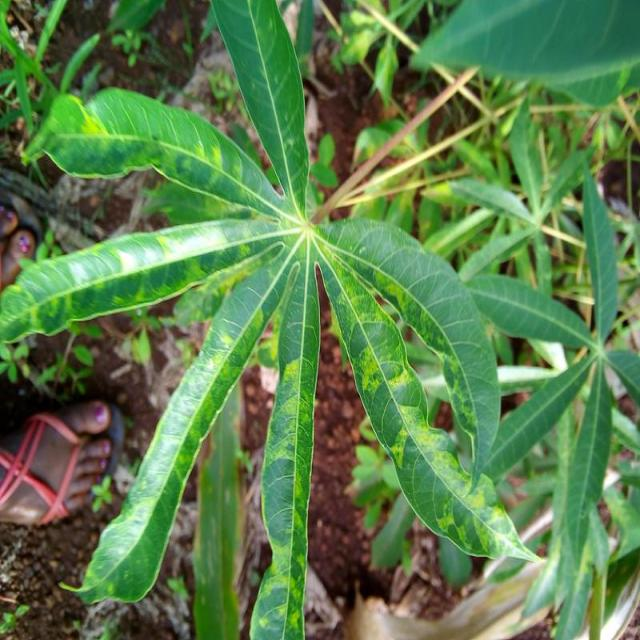cassava leaf: (2, 1, 544, 638)
